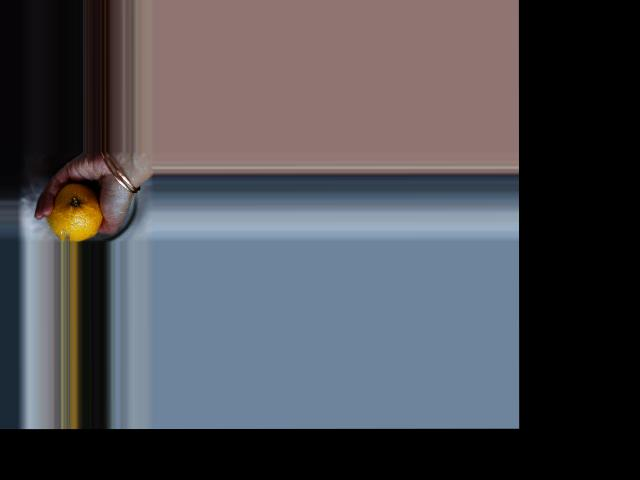lemon: (47, 181, 99, 239)
